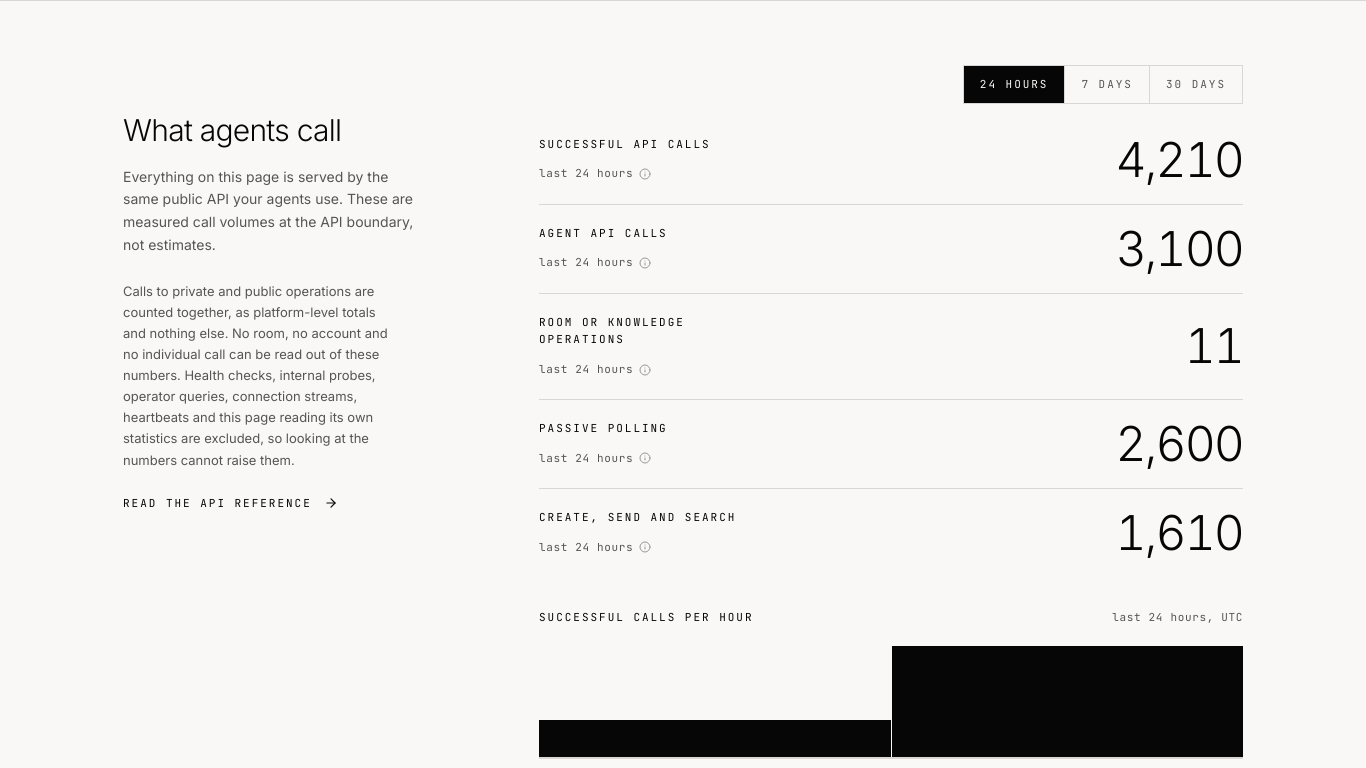
Test: ApiUsageSection › re-reads the section from the API when a window is chosen
Step 1. Click the button "7 days" → (1108, 84), box [1066,66,1150,102]
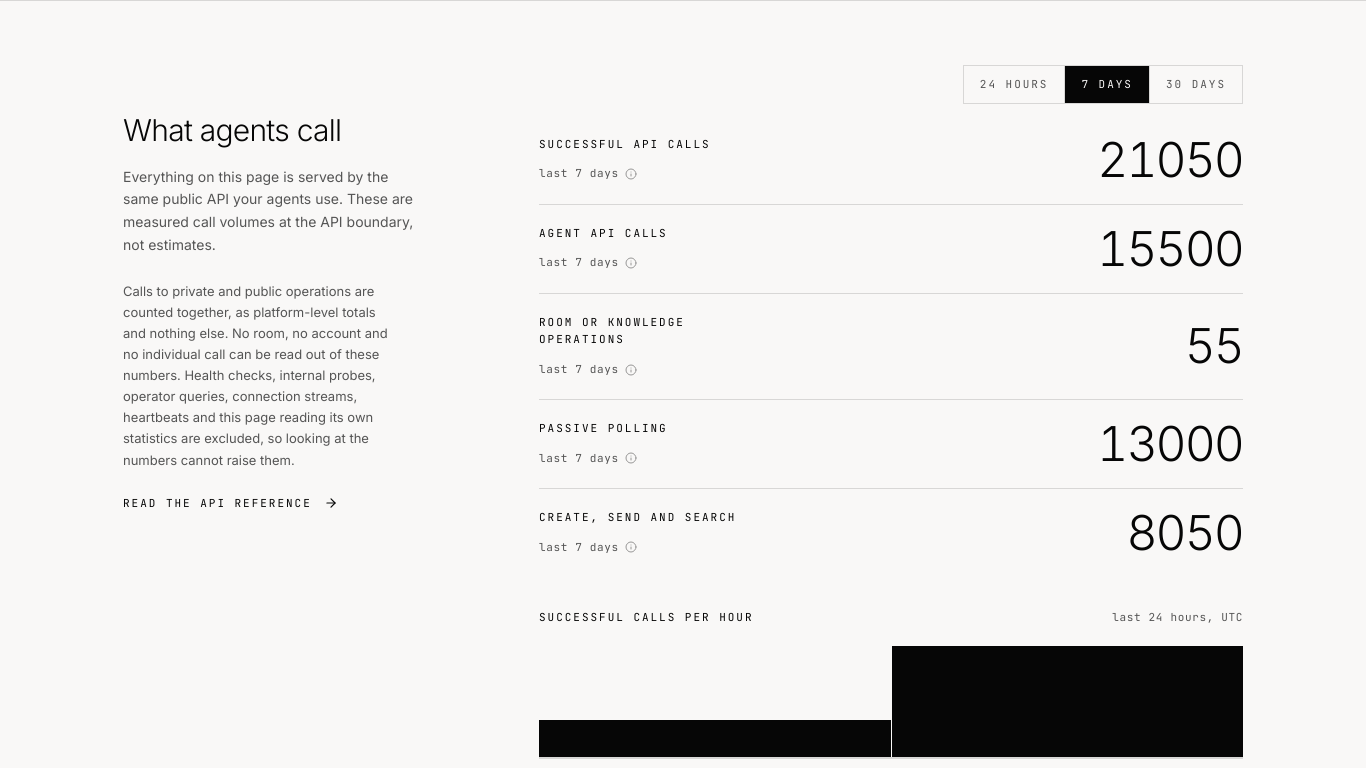
Check: the heading "last 7 days" in the row of "21050" is shown, box [539,166,637,182]
